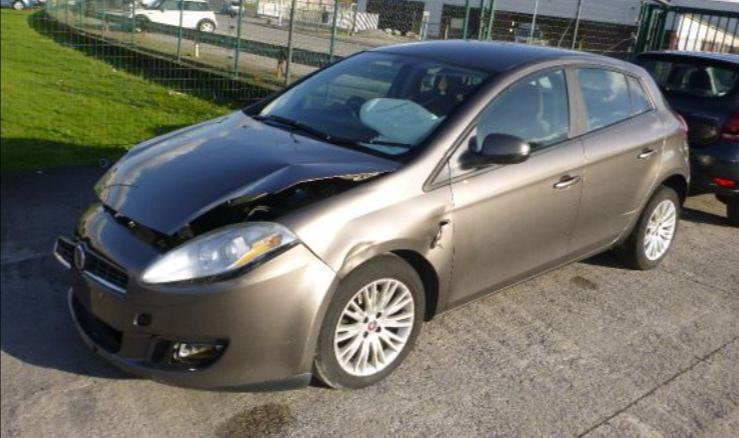Broken part: (95, 109, 403, 254), (54, 238, 129, 291)
Cracked: (143, 221, 298, 287)
Dent: (170, 158, 388, 232), (323, 211, 382, 262), (337, 240, 385, 279), (416, 203, 449, 255)
Missing part: (134, 314, 152, 328)
Scratch: (428, 218, 450, 250), (619, 207, 638, 216)
